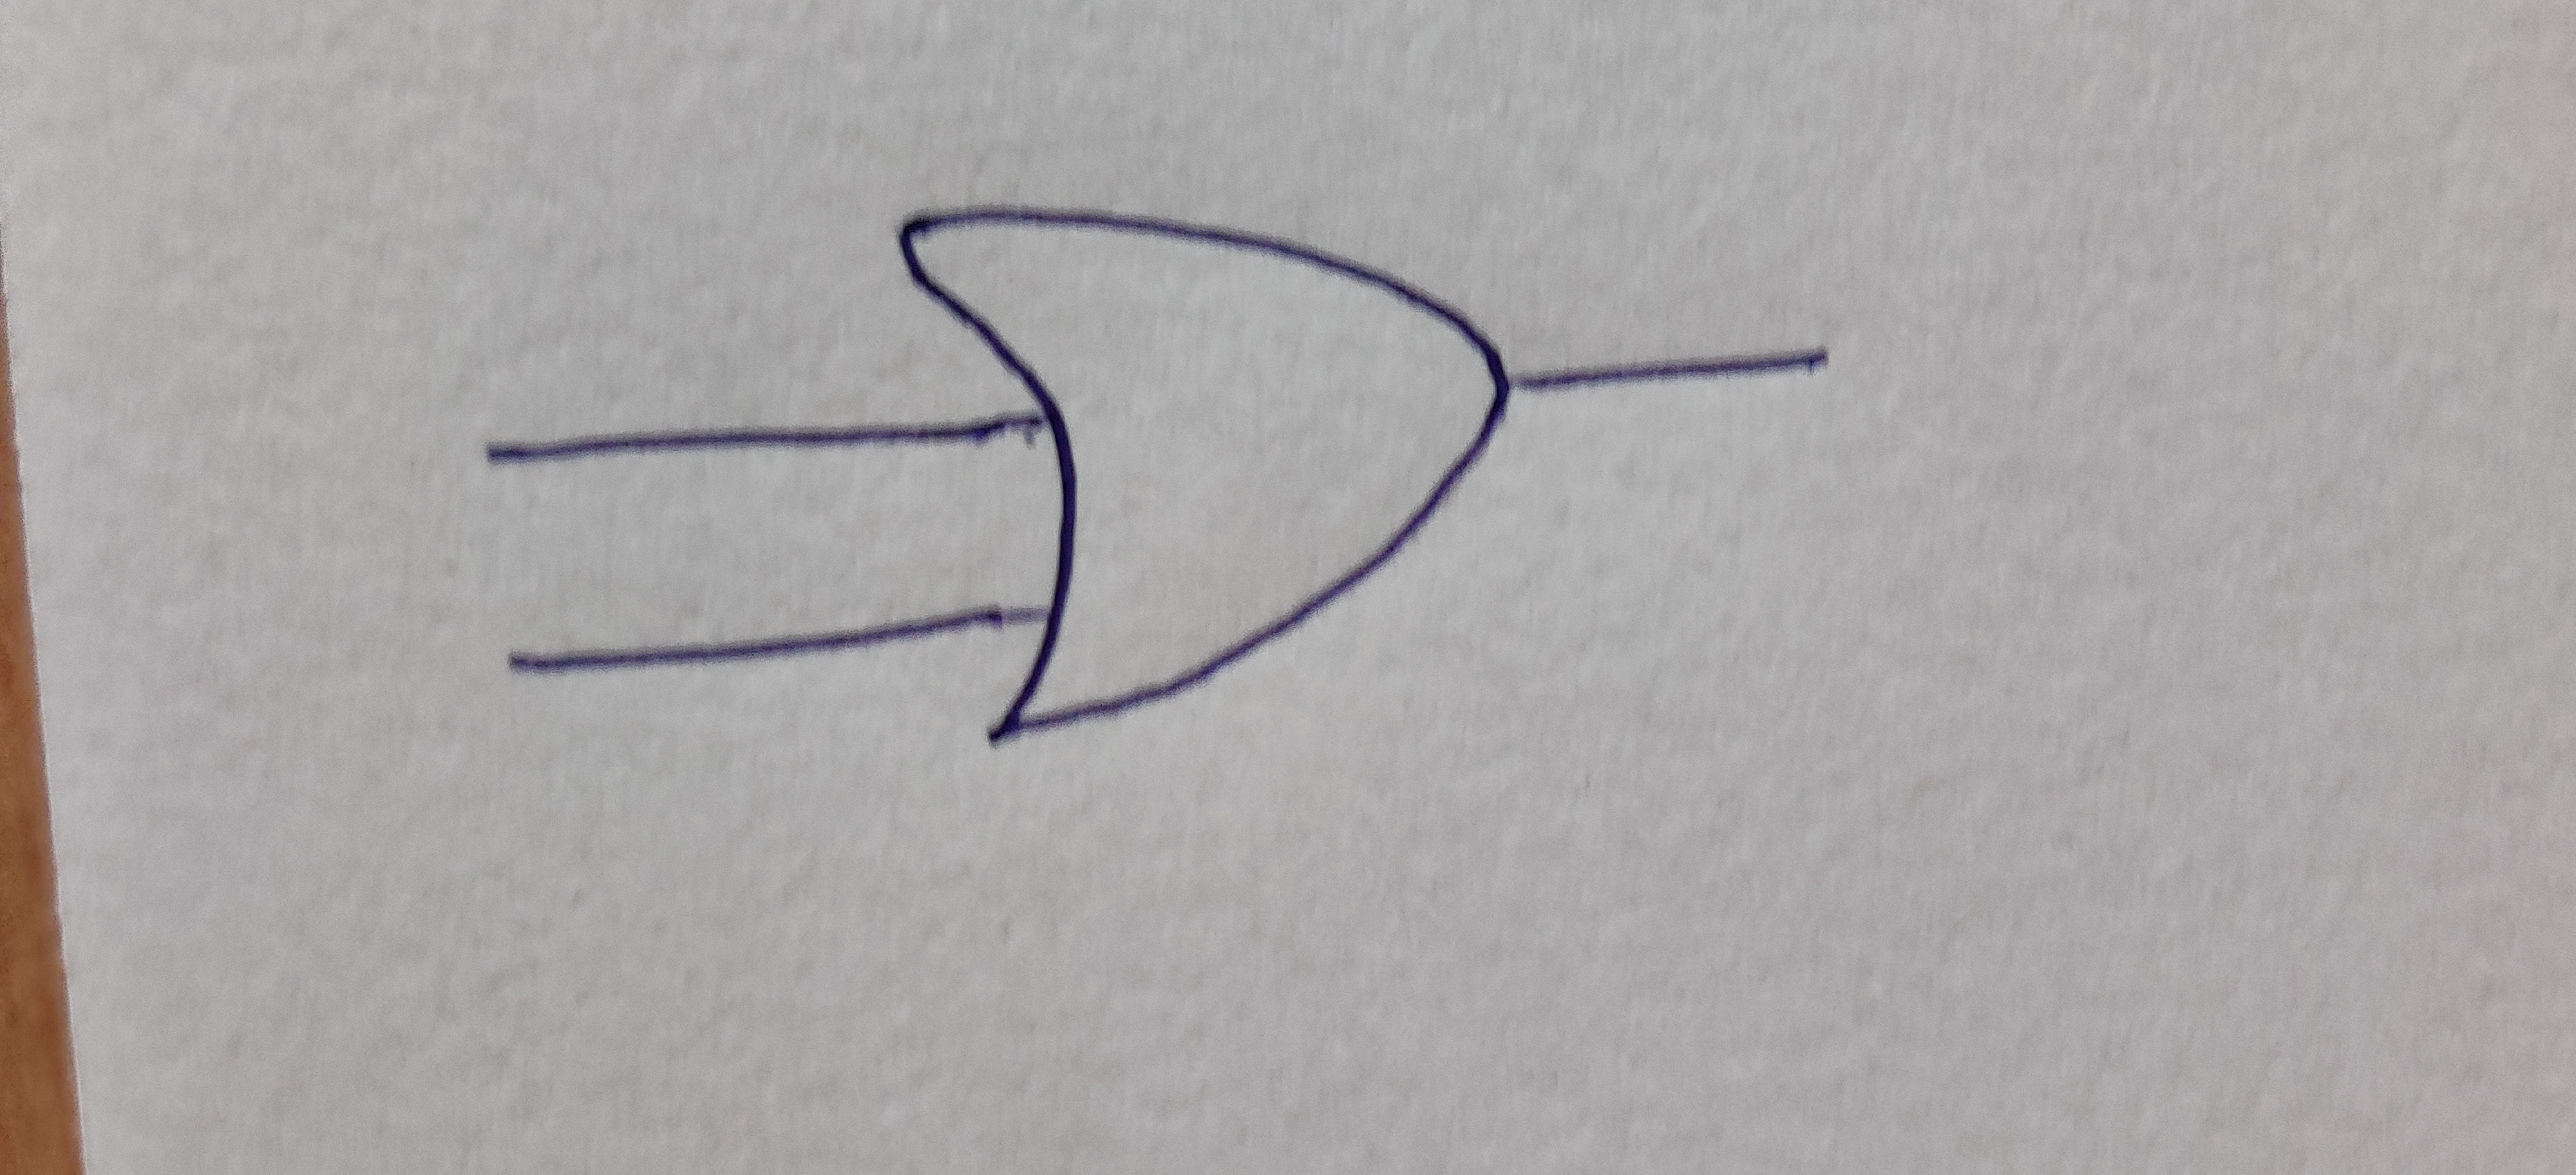or: (904, 209, 1508, 736)
